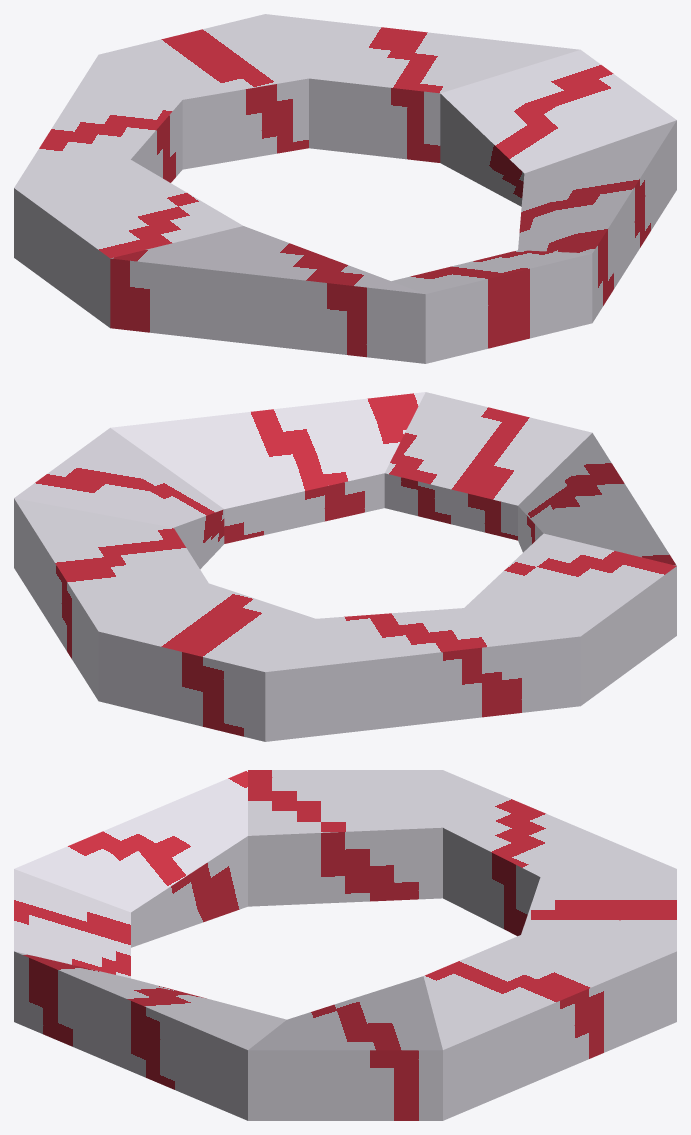
Rendered from simit.obj.
3 views of the same model, one above another, from view 1: azimuth 30°, elevation 25°; view 2: azimuth 150°, elevation 25°; view 3: azimuth 270°, elevation 25° (orthographic).
Parts seen in each view (by area): view 1: cube; view 2: cube; view 3: cube.
Boxes of the visible parts, x1=… form: cube: x1=14, y1=14, x2=676, y2=363; cube: x1=14, y1=392, x2=676, y2=741; cube: x1=14, y1=770, x2=676, y2=1120.
Bounding box in the file's own units: 0.2125 × 0.025 × 0.2125.
